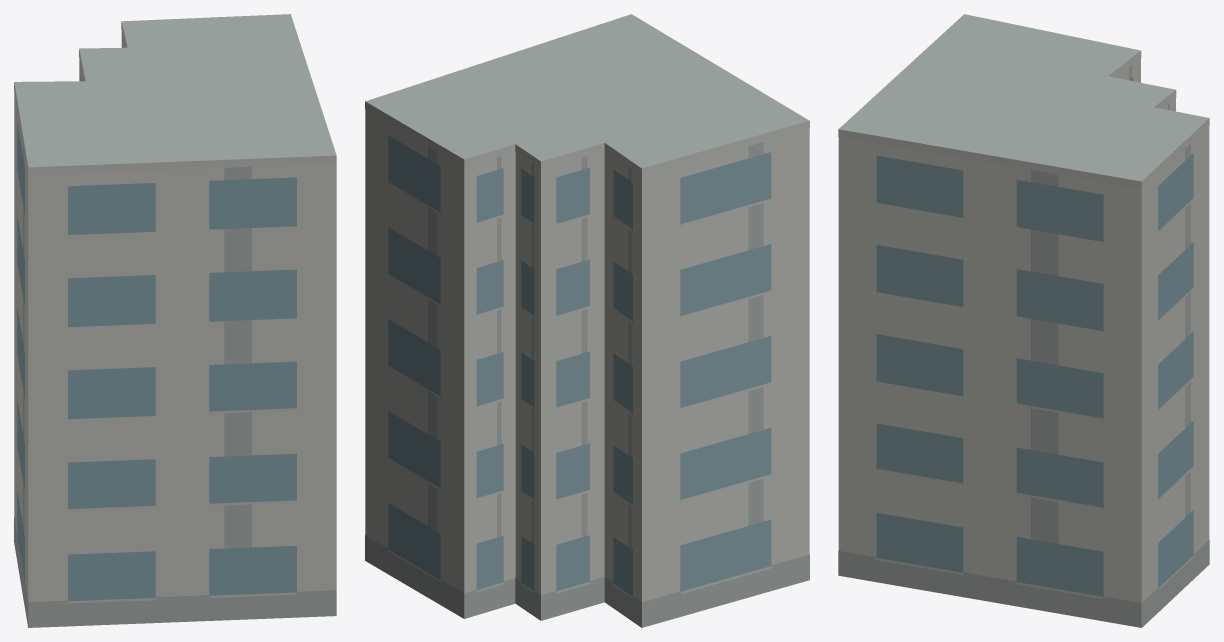
File: survey-upis-32726996.glb
The picture shows the model from 3 angles, left to right: view 1: azimuth 30°, elevation 25°; view 2: azimuth 150°, elevation 25°; view 3: azimuth 270°, elevation 25°; orthographic projection. The views are drawn at different scales.
Parts seen in each view (by area): view 1: survey-upis-32726996.tmp; view 2: survey-upis-32726996.tmp; view 3: survey-upis-32726996.tmp.
Boxes of the visible parts, left/top/right/bottom form: survey-upis-32726996.tmp: left=14, top=14, right=336, bottom=627; survey-upis-32726996.tmp: left=365, top=14, right=809, bottom=627; survey-upis-32726996.tmp: left=838, top=14, right=1209, bottom=627.
Size of the model in its own units: 11.19 by 13.9 by 10.48.
